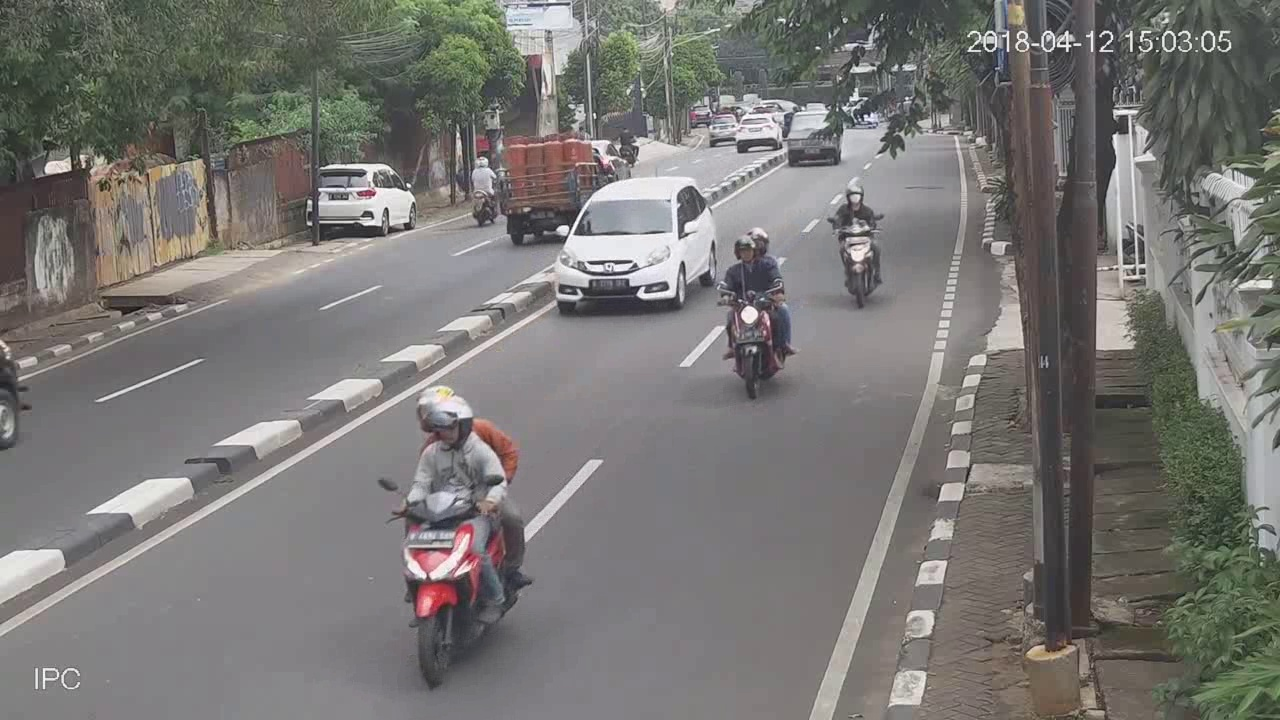car: (547, 174, 722, 316), (301, 153, 423, 237), (787, 105, 839, 169), (738, 112, 780, 154), (708, 111, 735, 150)
motorcycle: (370, 382, 539, 687), (714, 226, 804, 404), (828, 180, 892, 316), (460, 146, 500, 232)
